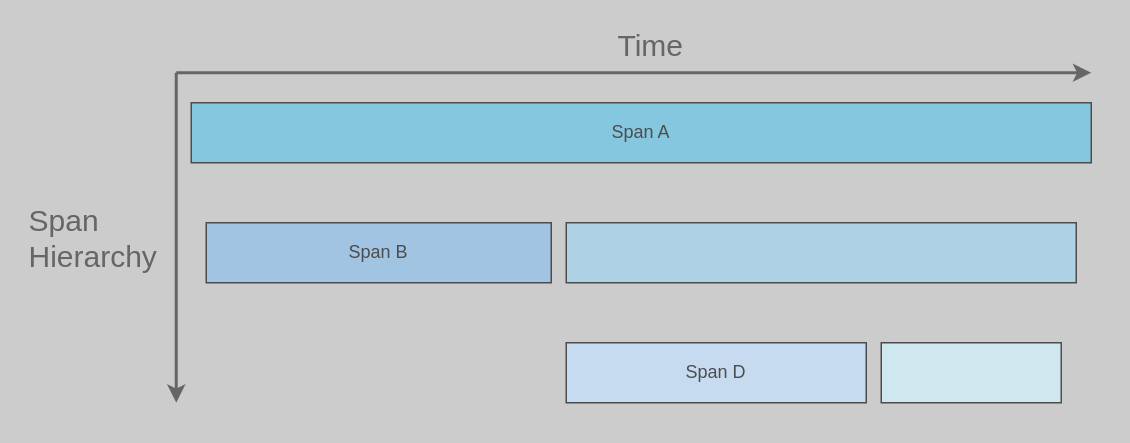
Some shapes in this 1130 by 443 pixel diagram are drawn without their labels. Each missing label, with the centre of its shape:
Span C: [820,252]
Span E: [970,372]
